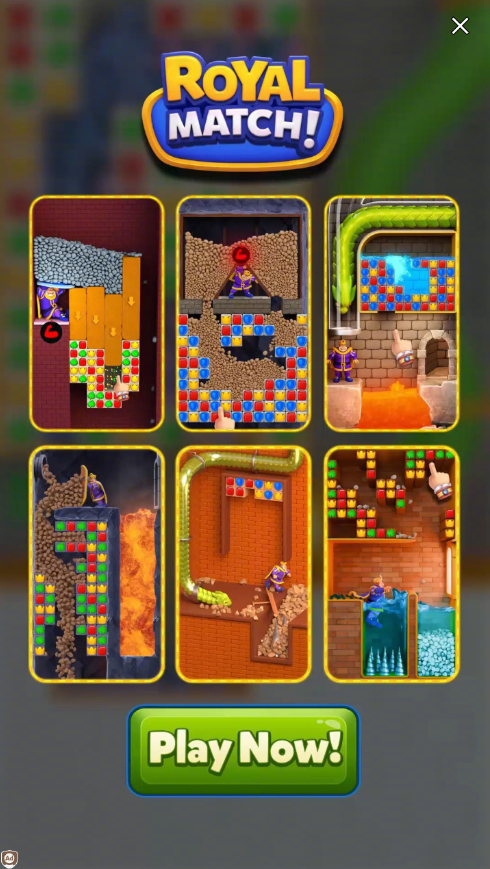close_button: (453, 14, 469, 38)
